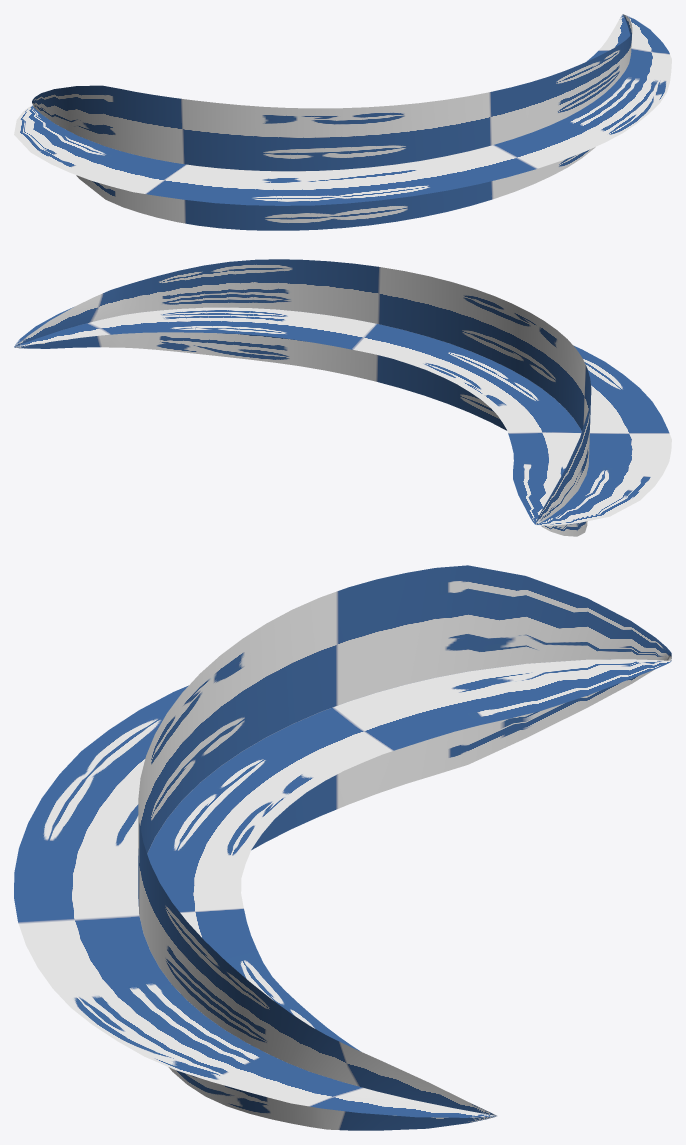
Rendered from NeClaw1.fbx.
3 renders of one model, top to bottom at view 1: azimuth 30°, elevation 25°; view 2: azimuth 150°, elevation 25°; view 3: azimuth 270°, elevation 25°, orthographic. The views are drawn at different scales.
Visible parts, largest first — view 1: SM_e_Plc_P0002_Claw008; view 2: SM_e_Plc_P0002_Claw008; view 3: SM_e_Plc_P0002_Claw008.
Boxes of the visible parts, <box> form: SM_e_Plc_P0002_Claw008: <box>14,14,671,230</box>; SM_e_Plc_P0002_Claw008: <box>14,259,671,536</box>; SM_e_Plc_P0002_Claw008: <box>14,565,671,1130</box>.
Bounding box in the file's own units: 93.96 × 19.16 × 52.82.
